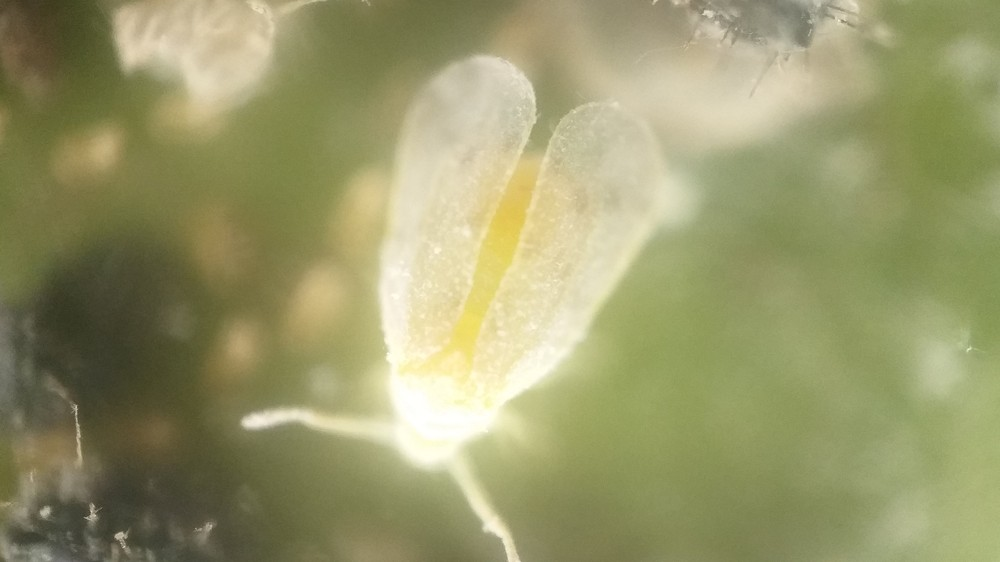Mosca Blanca: (230, 55, 753, 562)
